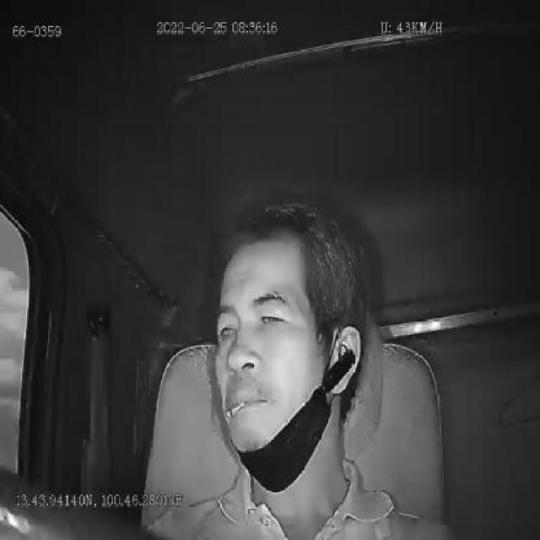smoking: (224, 401, 243, 419)
